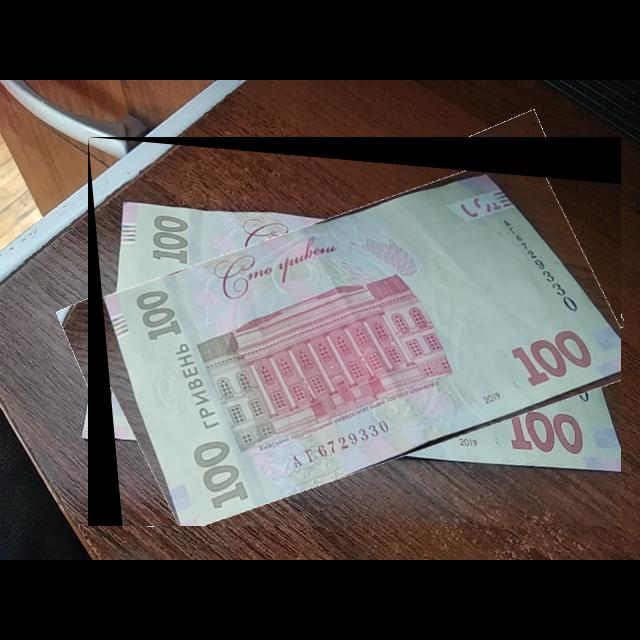100uah: (100, 166, 622, 527)
